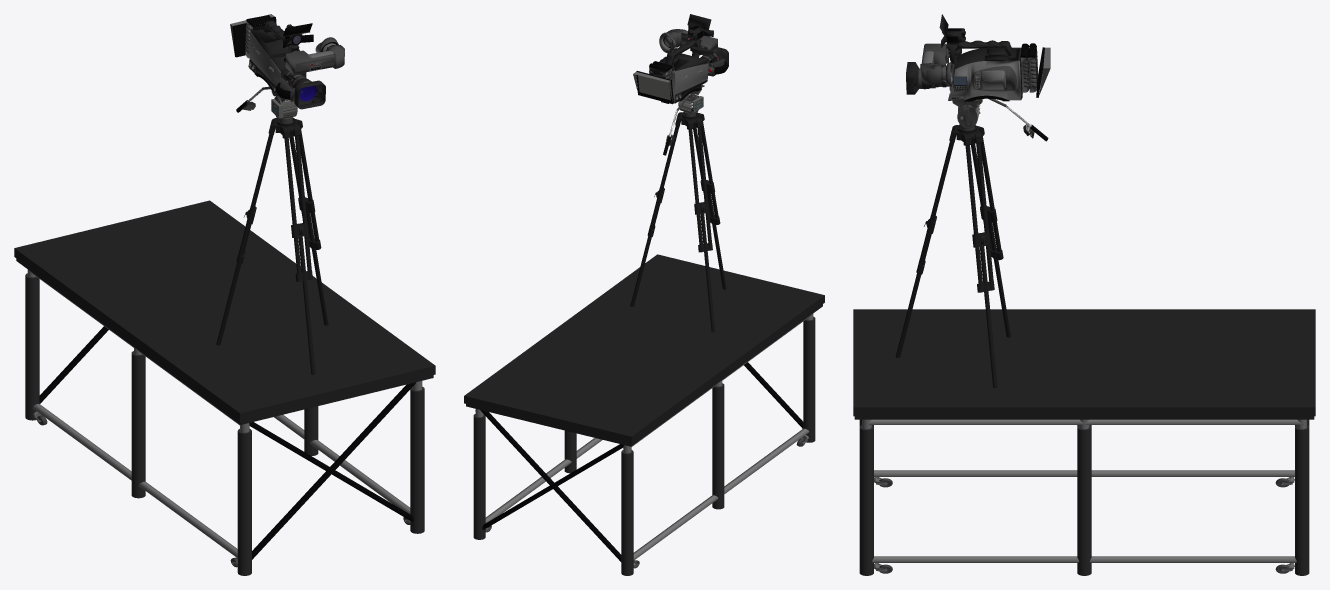
File: multy_cam_n_level_1_module_t_1meter.glb
3 views of the same model, side by side, from view 1: azimuth 30°, elevation 25°; view 2: azimuth 150°, elevation 25°; view 3: azimuth 270°, elevation 25° (orthographic). The views are drawn at different scales.
Parts seen in each view (by area): view 1: Object_29, Object_27, Object_16, Object_31, Object_26, Object_19, Object_17, Object_18; view 2: Object_29, Object_27, Object_16, Object_31, Object_26, Object_17, Object_19, Object_5; view 3: Object_29, Object_26, Object_27, Object_16, Object_17, Object_18, Object_19, Object_31, Object_25.
Part boxes in pixels (left/top/right/bottom): Object_29: left=14, top=20, right=435, bottom=424; Object_27: left=25, top=273, right=424, bottom=575; Object_16: left=216, top=25, right=328, bottom=374; Object_31: left=39, top=15, right=415, bottom=559; Object_26: left=27, top=269, right=422, bottom=557; Object_19: left=248, top=28, right=344, bottom=123; Object_17: left=245, top=22, right=335, bottom=118; Object_18: left=37, top=24, right=409, bottom=567; Object_29: left=464, top=14, right=824, bottom=446; Object_27: left=473, top=316, right=815, bottom=575; Object_16: left=630, top=38, right=726, bottom=332; Object_31: left=480, top=26, right=803, bottom=561; Object_26: left=475, top=314, right=813, bottom=560; Object_17: left=661, top=30, right=708, bottom=112; Object_19: left=659, top=29, right=717, bottom=116; Object_5: left=638, top=75, right=670, bottom=100; Object_29: left=853, top=14, right=1315, bottom=419; Object_26: left=862, top=419, right=1306, bottom=562; Object_27: left=859, top=419, right=1309, bottom=575; Object_16: left=895, top=37, right=1028, bottom=388; Object_17: left=923, top=48, right=1036, bottom=105; Object_18: left=879, top=52, right=1289, bottom=573; Object_19: left=921, top=43, right=1036, bottom=130; Object_31: left=942, top=28, right=1048, bottom=141; Object_25: left=952, top=99, right=1031, bottom=128.
Bounding box in the file's own units: 1.04 × 2.54 × 2.08.
Materials: 27 (5 with a texture image).
